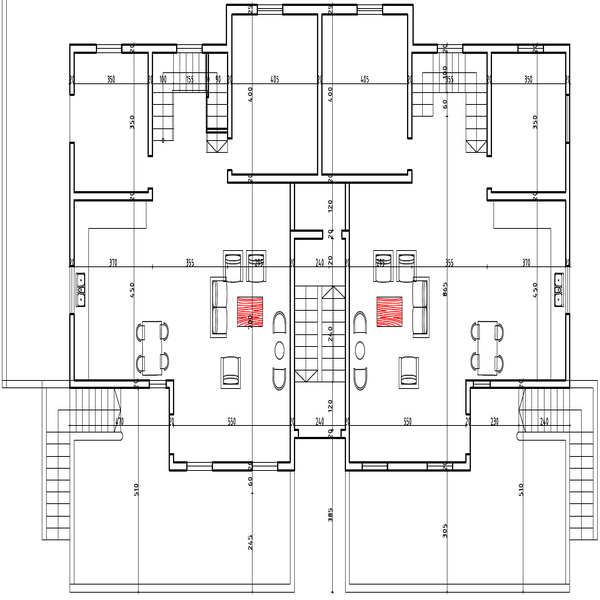room: (67, 195, 297, 392), (340, 172, 476, 470), (169, 179, 300, 473), (227, 1, 411, 182), (401, 44, 570, 202), (67, 45, 221, 196), (475, 186, 572, 387)
wall: (287, 188, 297, 471), (343, 185, 351, 469), (233, 174, 411, 184), (485, 191, 573, 204), (147, 54, 156, 158), (67, 190, 150, 201), (407, 9, 414, 137), (317, 13, 322, 165), (283, 6, 356, 15), (491, 379, 573, 386), (487, 52, 492, 153), (66, 50, 77, 93), (68, 141, 77, 190), (465, 46, 517, 54), (67, 380, 149, 382)
window: (563, 264, 572, 314), (428, 461, 455, 474), (257, 1, 282, 15), (69, 264, 76, 313), (360, 6, 384, 18), (95, 44, 123, 54), (362, 463, 390, 473), (177, 45, 203, 55), (189, 464, 215, 473), (437, 44, 459, 54), (521, 41, 544, 50), (253, 463, 278, 471)
